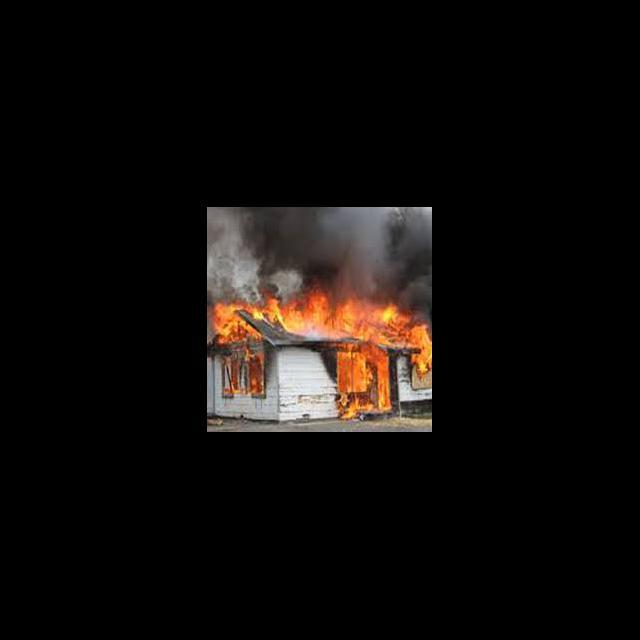Fire: (209, 290, 432, 422)
Smoke: (208, 208, 432, 290)
